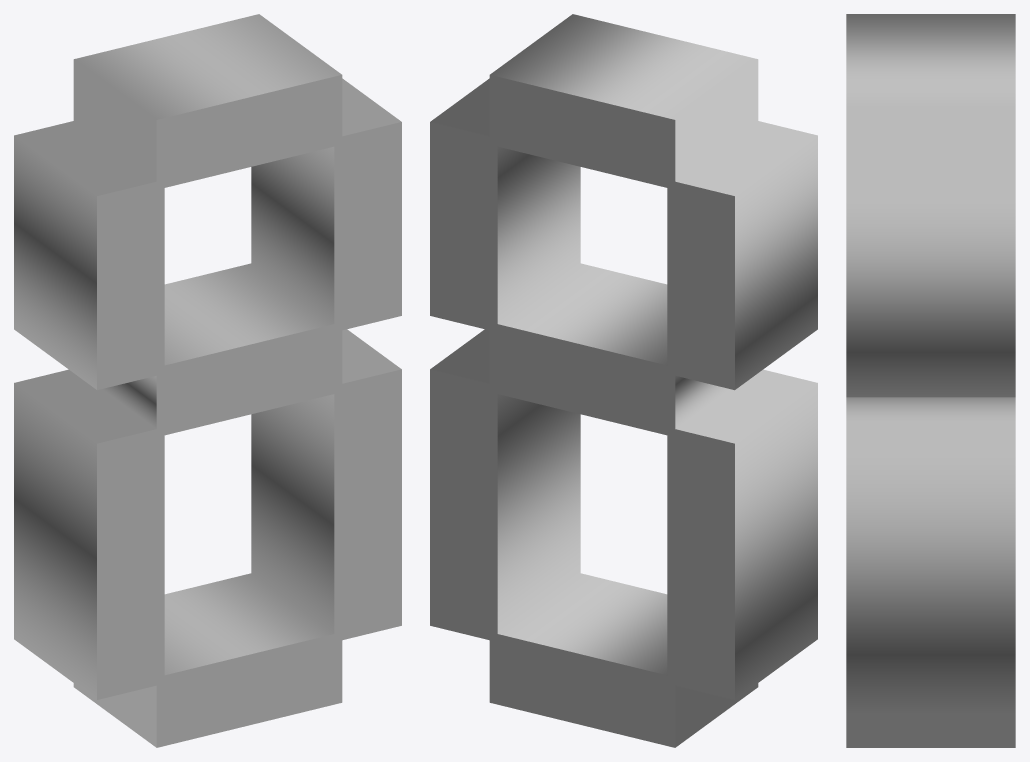
File: number_8.fbx
The picture shows the model from 3 angles, left to right: view 1: azimuth 30°, elevation 25°; view 2: azimuth 150°, elevation 25°; view 3: azimuth 270°, elevation 25°; orthographic projection. The views are drawn at different scales.
Parts seen in each view (by area): view 1: 8; view 2: 8; view 3: 8.
Boxes of the visible parts, x1=… form: 8: x1=14, y1=14, x2=401, y2=747; 8: x1=430, y1=14, x2=817, y2=747; 8: x1=846, y1=14, x2=1015, y2=747.
Bounding box in the file's own units: 84.8 × 167 × 40.
